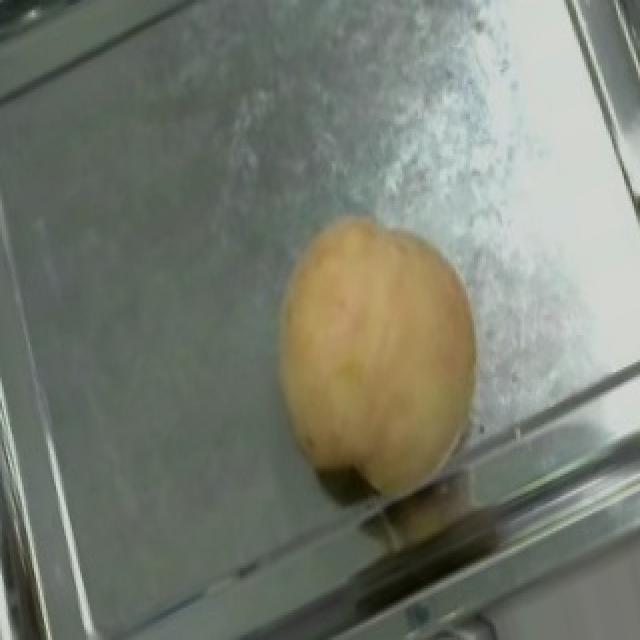Fruit: (228, 181, 528, 536)
